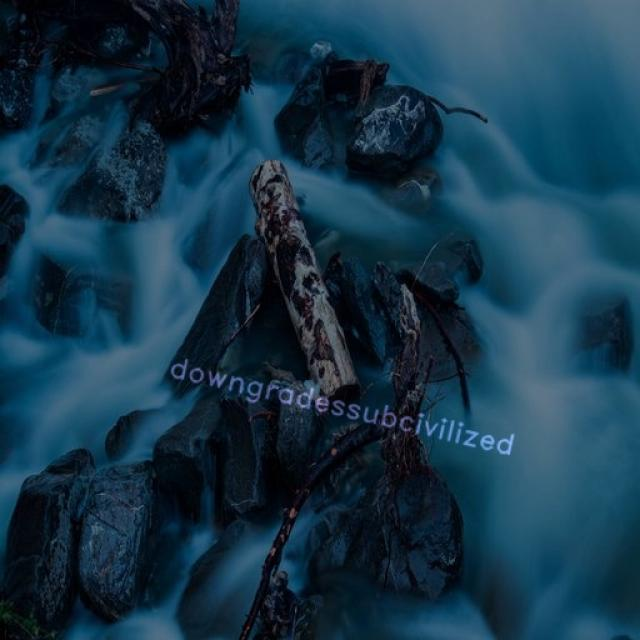watermark: (160, 352, 533, 460)
